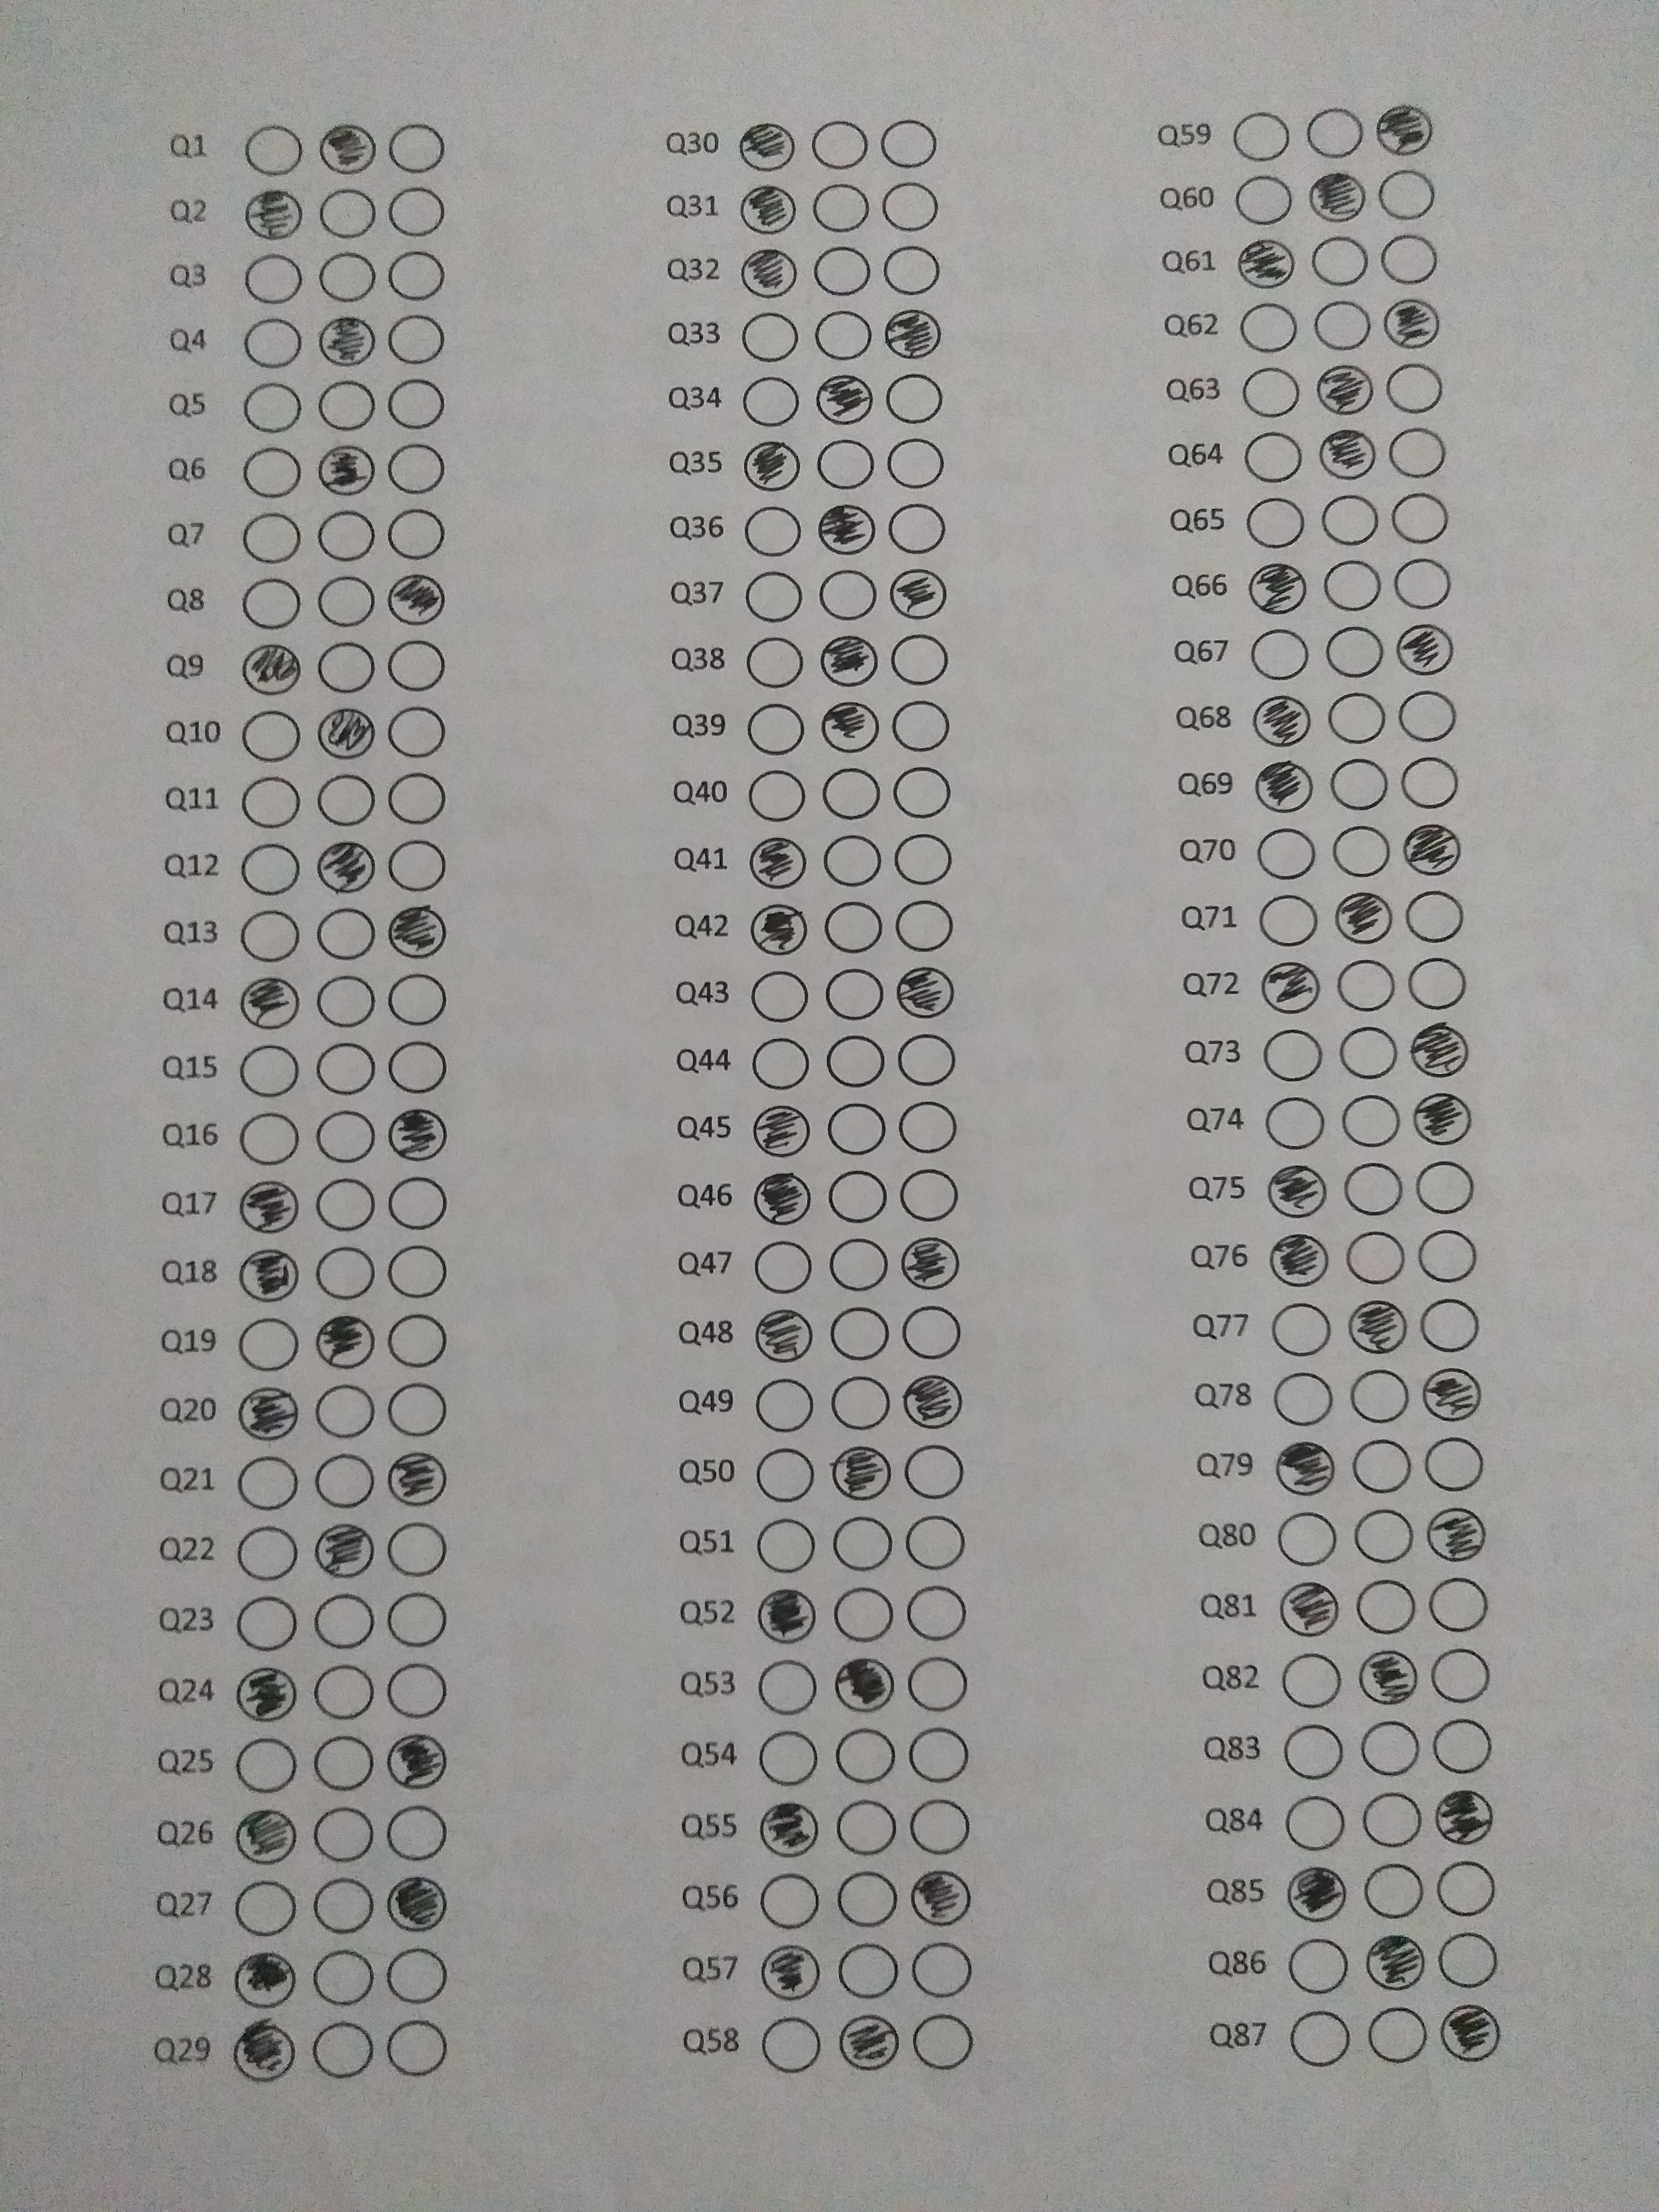not-c: (234, 1312, 301, 1376), (312, 378, 378, 434), (237, 1109, 303, 1165), (385, 768, 451, 824), (310, 1949, 376, 2005), (235, 1881, 301, 1937), (310, 1806, 376, 1862), (234, 1526, 300, 1581), (314, 1383, 380, 1439), (751, 1660, 817, 1716), (831, 1730, 897, 1785), (897, 1167, 964, 1223), (899, 1444, 965, 1500), (904, 1514, 971, 1569), (805, 244, 871, 300), (734, 308, 800, 364), (1243, 496, 1309, 552), (1385, 428, 1452, 484), (1305, 300, 1371, 355), (1356, 1723, 1422, 1778), (1276, 1653, 1342, 1709), (1424, 1578, 1490, 1634), (1351, 1507, 1417, 1562), (1349, 1439, 1415, 1494), (1338, 1160, 1405, 1216), (315, 1042, 380, 1097), (385, 2020, 450, 2076), (756, 1874, 821, 1930), (1366, 2008, 1431, 2064), (1417, 1230, 1481, 1285), (1403, 888, 1469, 942), (382, 439, 448, 493), (383, 376, 450, 430), (383, 312, 450, 366), (312, 639, 378, 693), (310, 571, 376, 625), (314, 251, 380, 305), (239, 775, 305, 829), (234, 707, 300, 761), (237, 575, 303, 629), (239, 444, 305, 498), (239, 380, 305, 434), (239, 317, 305, 371), (239, 253, 305, 307), (380, 185, 446, 239), (312, 188, 378, 242), (383, 120, 450, 174), (314, 1245, 380, 1299), (314, 1177, 380, 1231), (314, 1109, 380, 1163), (385, 974, 451, 1028), (312, 974, 378, 1028), (315, 906, 382, 960), (235, 1043, 301, 1097), (383, 838, 450, 892), (237, 909, 303, 963), (239, 841, 305, 895), (383, 705, 450, 759), (382, 636, 448, 690), (383, 505, 450, 559), (387, 1949, 453, 2003), (312, 1881, 378, 1935), (310, 1735, 376, 1789), (232, 1737, 298, 1791), (382, 1663, 448, 1717), (312, 1663, 378, 1717), (380, 1592, 446, 1646), (234, 1595, 300, 1649), (382, 1522, 448, 1576), (310, 1454, 376, 1508), (235, 1454, 301, 1508), (383, 1315, 450, 1369), (312, 2022, 378, 2076), (904, 1658, 971, 1712), (903, 1726, 969, 1780), (755, 1733, 821, 1787), (906, 1942, 972, 1996), (910, 2015, 976, 2069), (758, 2017, 824, 2071), (817, 1035, 884, 1089), (890, 1033, 957, 1087), (892, 1099, 958, 1153), (826, 1103, 892, 1157), (828, 1169, 894, 1223), (746, 1242, 812, 1296), (826, 1238, 892, 1292), (896, 1301, 962, 1355), (826, 1308, 892, 1362), (826, 1374, 892, 1428), (753, 1519, 819, 1573), (748, 1379, 814, 1433), (753, 1447, 819, 1501), (833, 1517, 899, 1571), (904, 1587, 971, 1641), (831, 1588, 897, 1642), (739, 503, 805, 557), (739, 570, 805, 624), (885, 632, 951, 686), (744, 634, 810, 688), (885, 698, 951, 752), (742, 702, 809, 756), (817, 768, 884, 822), (889, 765, 955, 819), (890, 833, 957, 887), (892, 900, 958, 954), (821, 900, 887, 954), (819, 967, 885, 1021), (746, 970, 812, 1024), (1302, 106, 1368, 160), (1229, 110, 1295, 164), (877, 118, 943, 172), (878, 183, 945, 237), (809, 181, 875, 235), (882, 242, 948, 296), (807, 308, 873, 362), (880, 373, 946, 427), (885, 503, 951, 557), (882, 435, 948, 489), (810, 434, 877, 488), (1328, 824, 1394, 878), (1253, 827, 1319, 881), (1398, 756, 1464, 810), (1326, 758, 1392, 812), (1394, 688, 1460, 742), (1323, 690, 1389, 744), (1319, 625, 1385, 679), (1244, 629, 1310, 683), (1387, 556, 1453, 610), (1319, 557, 1385, 611), (1385, 491, 1452, 545), (1316, 493, 1382, 547), (1243, 432, 1309, 486), (1378, 362, 1445, 416), (1237, 368, 1303, 421), (1236, 301, 1302, 355), (1370, 235, 1436, 289), (1305, 233, 1371, 287), (1230, 172, 1297, 226), (1371, 171, 1438, 225), (1290, 2012, 1356, 2066), (1288, 1937, 1354, 1991), (1436, 1860, 1502, 1914), (1363, 1865, 1429, 1919), (1358, 1792, 1424, 1846), (1281, 1794, 1347, 1848), (1427, 1719, 1493, 1773), (1279, 1724, 1345, 1778), (1351, 1580, 1417, 1634), (1272, 1510, 1338, 1564), (1424, 1437, 1490, 1491), (1345, 1369, 1412, 1423), (1270, 1371, 1337, 1425), (1269, 1303, 1335, 1357), (1345, 1231, 1412, 1285), (1412, 1160, 1478, 1214), (1338, 1094, 1405, 1148), (1263, 1096, 1330, 1150), (1337, 1028, 1403, 1082), (1260, 1028, 1326, 1082), (1405, 958, 1471, 1012), (1255, 892, 1321, 946), (242, 124, 307, 178), (387, 247, 451, 301), (312, 773, 376, 827), (315, 509, 380, 563), (240, 510, 305, 564), (385, 1244, 450, 1298), (387, 1176, 451, 1230), (385, 1040, 450, 1094), (385, 1804, 450, 1858), (310, 1594, 375, 1648), (385, 1381, 450, 1435), (908, 1797, 972, 1851), (833, 1799, 897, 1853), (833, 1872, 897, 1926), (836, 1944, 901, 1998), (744, 1040, 809, 1094), (819, 570, 884, 624), (742, 768, 807, 822), (819, 834, 884, 888), (805, 118, 870, 172), (742, 373, 807, 427), (1436, 1928, 1500, 1982), (1427, 1649, 1492, 1703), (1417, 1299, 1481, 1353), (1333, 958, 1398, 1012)
taken-c: (230, 2019, 296, 2085), (910, 1867, 974, 1930), (1276, 1439, 1340, 1501), (1439, 2000, 1502, 2064), (1276, 1578, 1342, 1639), (232, 1665, 300, 1724), (894, 961, 957, 1024), (1420, 1362, 1483, 1425), (237, 1383, 301, 1444), (1347, 1298, 1412, 1359), (235, 1245, 301, 1305), (758, 1797, 821, 1858), (1284, 1865, 1347, 1926), (387, 1874, 450, 1935), (838, 2010, 901, 2071), (385, 902, 450, 961), (314, 1522, 378, 1581), (1269, 1230, 1330, 1291), (387, 1731, 448, 1792), (882, 305, 945, 364), (751, 1167, 814, 1226), (903, 1372, 965, 1432), (385, 1449, 448, 1508), (758, 1942, 821, 2001), (234, 1952, 298, 2010), (1408, 1022, 1473, 1080), (833, 1655, 894, 1714), (240, 974, 301, 1033), (1366, 1932, 1425, 1993), (1413, 1089, 1474, 1148), (819, 698, 882, 756), (755, 1588, 817, 1646), (385, 1104, 448, 1162), (1424, 1507, 1486, 1564), (810, 371, 875, 427), (1256, 960, 1321, 1015), (234, 1810, 298, 1865), (1246, 561, 1310, 617), (235, 1181, 301, 1235), (1403, 820, 1462, 880), (315, 441, 376, 498), (317, 838, 378, 895), (748, 834, 809, 892), (899, 1235, 960, 1292), (831, 1444, 892, 1501), (1358, 1648, 1419, 1705), (1253, 691, 1314, 749), (242, 186, 305, 242), (385, 571, 448, 627), (819, 634, 882, 690), (1333, 890, 1396, 946), (317, 122, 378, 178), (315, 704, 376, 759), (751, 1104, 812, 1160), (314, 1313, 375, 1369), (1436, 1789, 1497, 1844), (1253, 759, 1314, 815), (1394, 622, 1455, 678), (1317, 427, 1378, 482), (239, 643, 301, 697), (748, 902, 810, 956), (1267, 1165, 1330, 1219), (742, 437, 802, 493), (1307, 167, 1366, 223), (1375, 101, 1434, 157), (737, 183, 798, 237), (817, 502, 878, 556), (1236, 237, 1297, 291), (1380, 298, 1443, 350), (317, 314, 375, 369), (889, 566, 946, 622), (756, 1308, 814, 1364), (735, 122, 796, 174), (1316, 364, 1377, 416), (741, 247, 800, 300)
